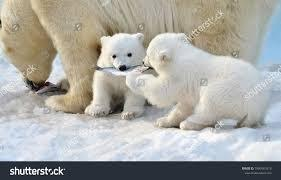bear: (0, 0, 278, 115), (126, 33, 272, 130), (85, 33, 147, 120)
